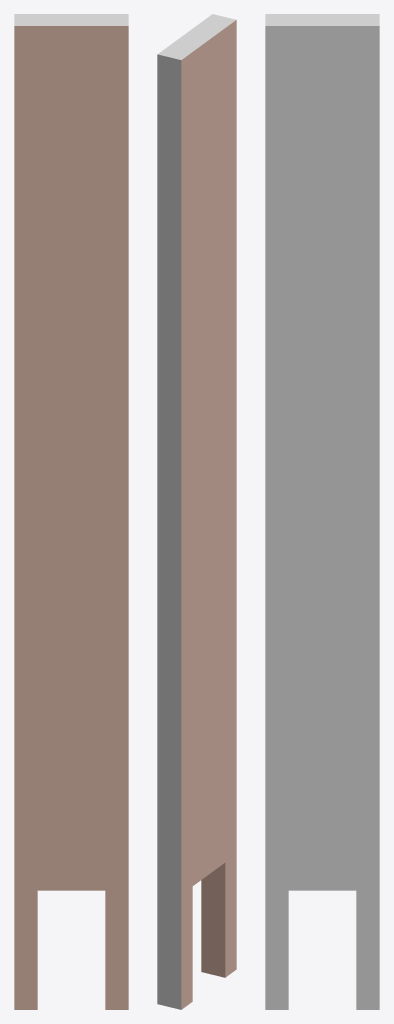
The model's file is Warehouse_WallDoor.fbx.
3 renders of one model, left to right at view 1: azimuth 90°, elevation 25°; view 2: azimuth 150°, elevation 25°; view 3: azimuth 270°, elevation 25°, orthographic. The views are drawn at different scales.
Parts seen in each view (by area): view 1: Warehouse_WallDoor; view 2: Warehouse_WallDoor; view 3: Warehouse_WallDoor.
Part boxes in pixels (x1,y1,x2,y2): Warehouse_WallDoor: (14,14,128,1009); Warehouse_WallDoor: (157,14,236,1009); Warehouse_WallDoor: (265,14,379,1009).
Size of the model in its own units: 0.5 by 19 by 2.
